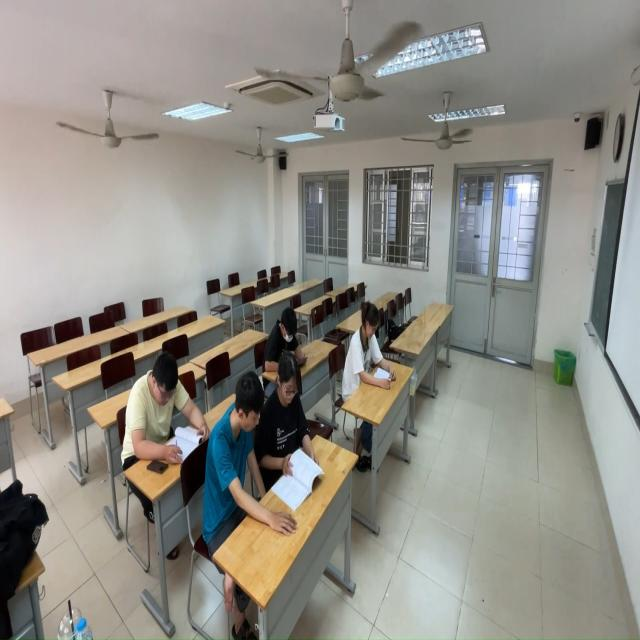read: (203, 374, 279, 540), (122, 346, 204, 470), (264, 349, 322, 504), (345, 301, 393, 407), (262, 302, 313, 371)
